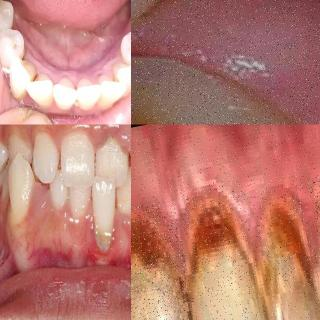Gum Swelling: (137, 0, 320, 124), (59, 124, 131, 155)
calculus: (22, 62, 44, 86), (95, 229, 111, 252)
cavities: (240, 193, 314, 307), (179, 185, 247, 308), (131, 204, 179, 318), (303, 180, 320, 287)
maligned: (8, 157, 33, 238), (91, 174, 118, 246), (94, 134, 126, 192), (5, 128, 30, 178), (34, 132, 56, 186), (28, 73, 56, 111), (50, 172, 68, 208)
